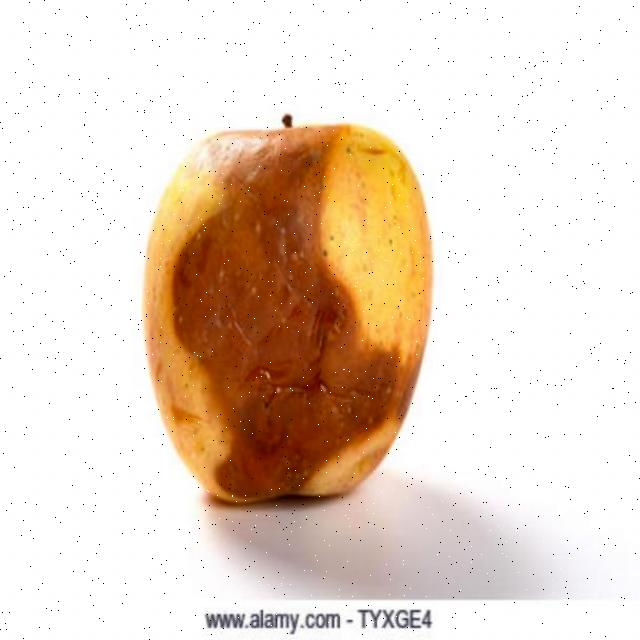ROT: (128, 82, 444, 514)
